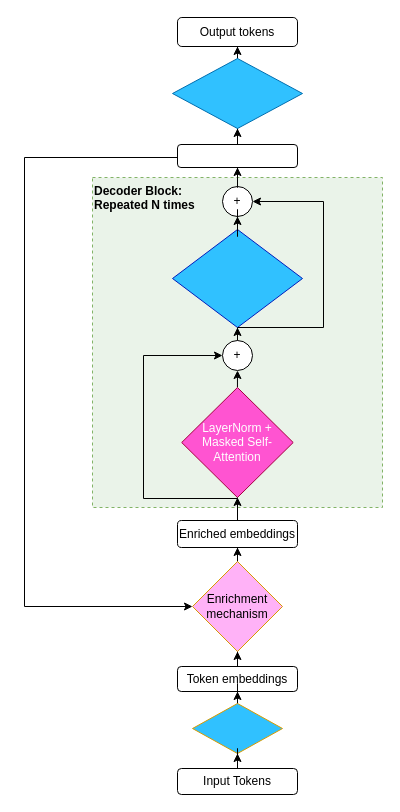
The diagram is 400 pixels wide and 812 high, and some of its shapes have lost their labels. Here are the shapes that lost their labels. From the top down, the centre of each, then its label:
the point at 237,93: Linear layer + softmax
the point at 237,156: Last hidden states
the point at 237,278: LayerNorm + Feed Forward Network
the point at 237,728: Embedding
